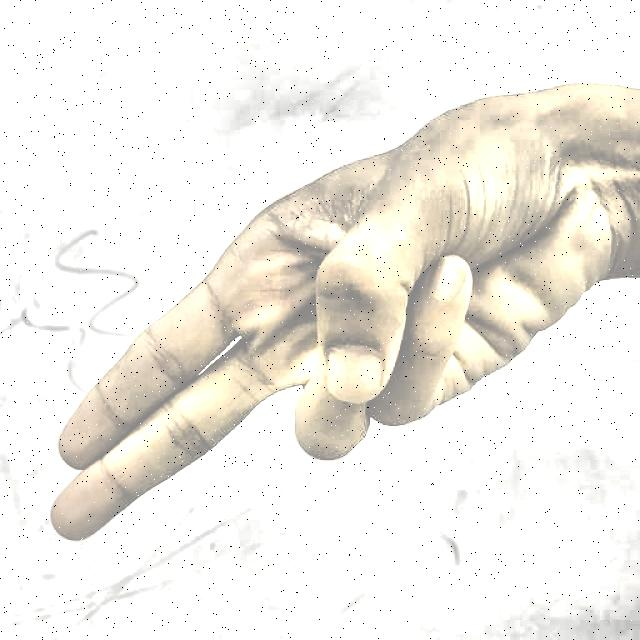Ha: (38, 73, 616, 601)
